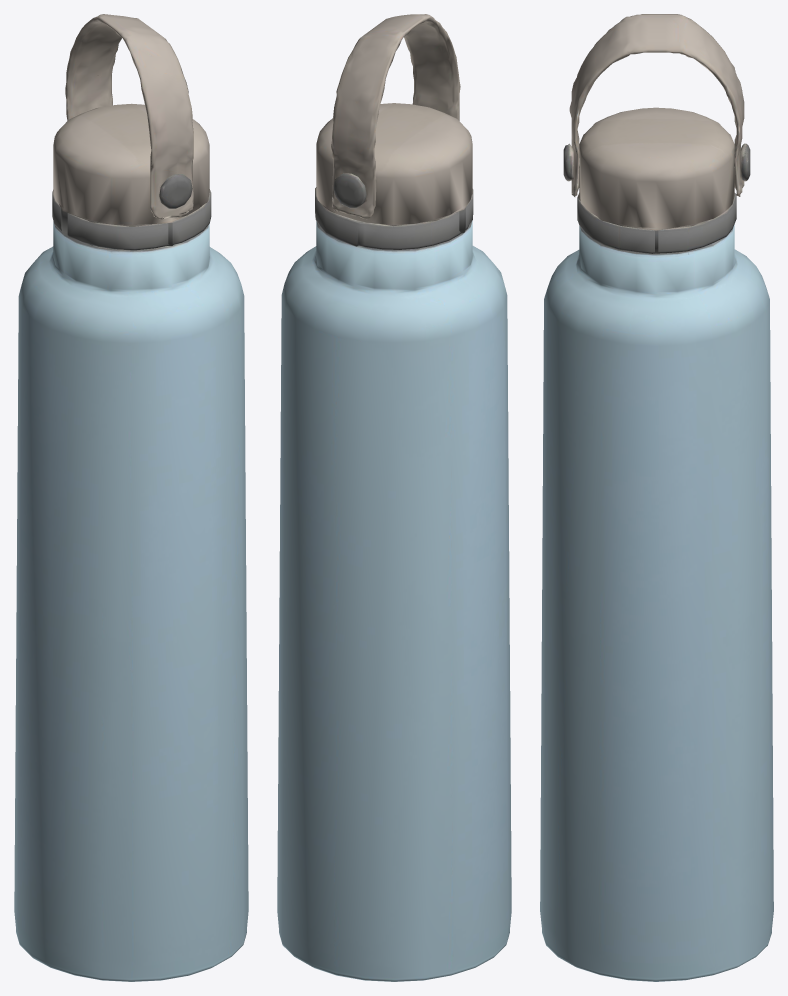
File: vacuum_flask_1778076585.glb
3 views of the same model, side by side, from view 1: azimuth 30°, elevation 25°; view 2: azimuth 150°, elevation 25°; view 3: azimuth 270°, elevation 25° (orthographic).
Parts seen in each view (by area): view 1: tripo_node_41550b14-aec4-4720-b938-322cd6723806; view 2: tripo_node_41550b14-aec4-4720-b938-322cd6723806; view 3: tripo_node_41550b14-aec4-4720-b938-322cd6723806.
Boxes of the visible parts, x1=… form: tripo_node_41550b14-aec4-4720-b938-322cd6723806: x1=14, y1=14, x2=248, y2=981; tripo_node_41550b14-aec4-4720-b938-322cd6723806: x1=277, y1=14, x2=511, y2=981; tripo_node_41550b14-aec4-4720-b938-322cd6723806: x1=540, y1=14, x2=773, y2=981.
Bounding box in the file's own units: 0.2324 × 0.998 × 0.2324.
Materials: 1 (1 with a texture image).
